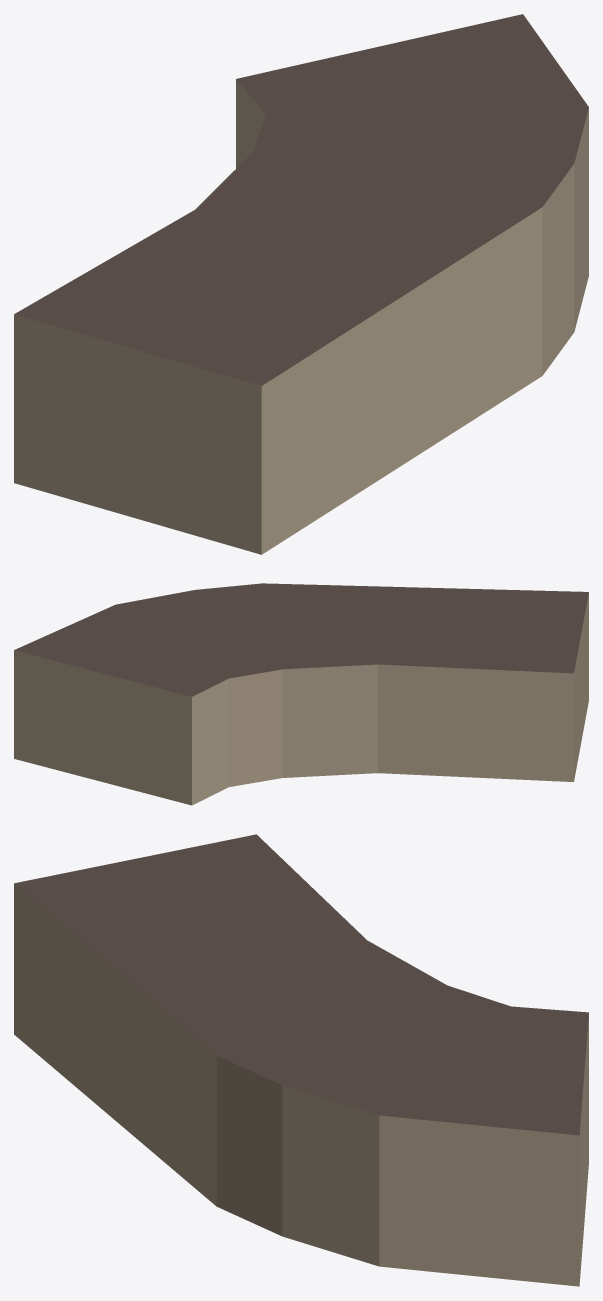
3 views of the same model, one above another, from view 1: azimuth 30°, elevation 25°; view 2: azimuth 150°, elevation 25°; view 3: azimuth 270°, elevation 25° (orthographic). The views are drawn at different scales.
Visible parts, largest first — view 1: HP-w1376988666; view 2: HP-w1376988666; view 3: HP-w1376988666.
Part boxes in pixels (x1,y1,x2,y2): HP-w1376988666: (14,14,588,554); HP-w1376988666: (14,583,588,805); HP-w1376988666: (14,834,588,1286).
Bounding box in the file's own units: 38.47 × 9 × 31.03.
